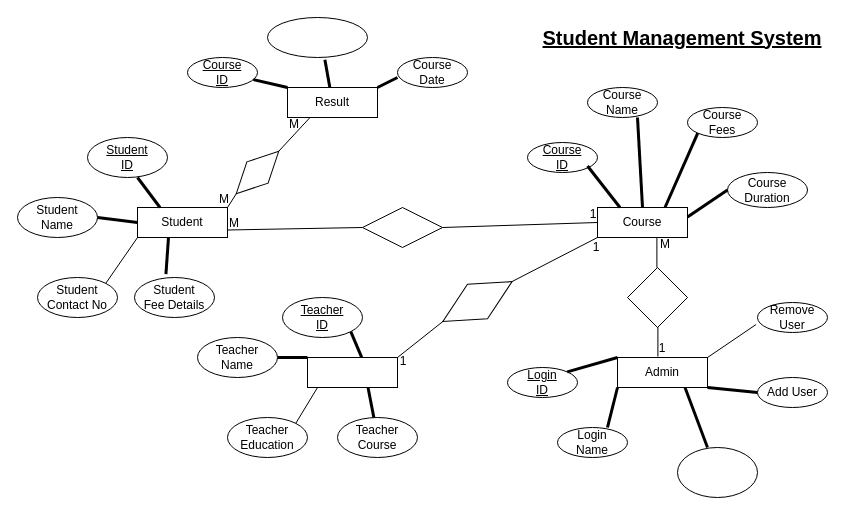
Some shapes in this 855 by 515 pixel diagram are drawn without their labels. The shapes that lost their labels are listed below. From the top down, each one's centre as x and y in pixels, then its label:
At (x=317, y=37): "Course Description".
At (x=257, y=172): "have".
At (x=402, y=227): "Study".
At (x=477, y=301): "has".
At (x=657, y=297): "control".
At (x=352, y=372): "Teacher".
At (x=717, y=472): "Login Password".
